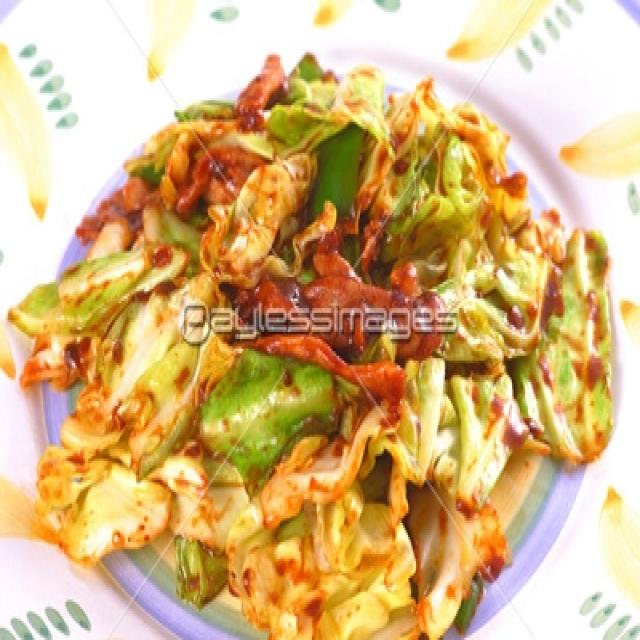三明治: (67, 51, 506, 444)
